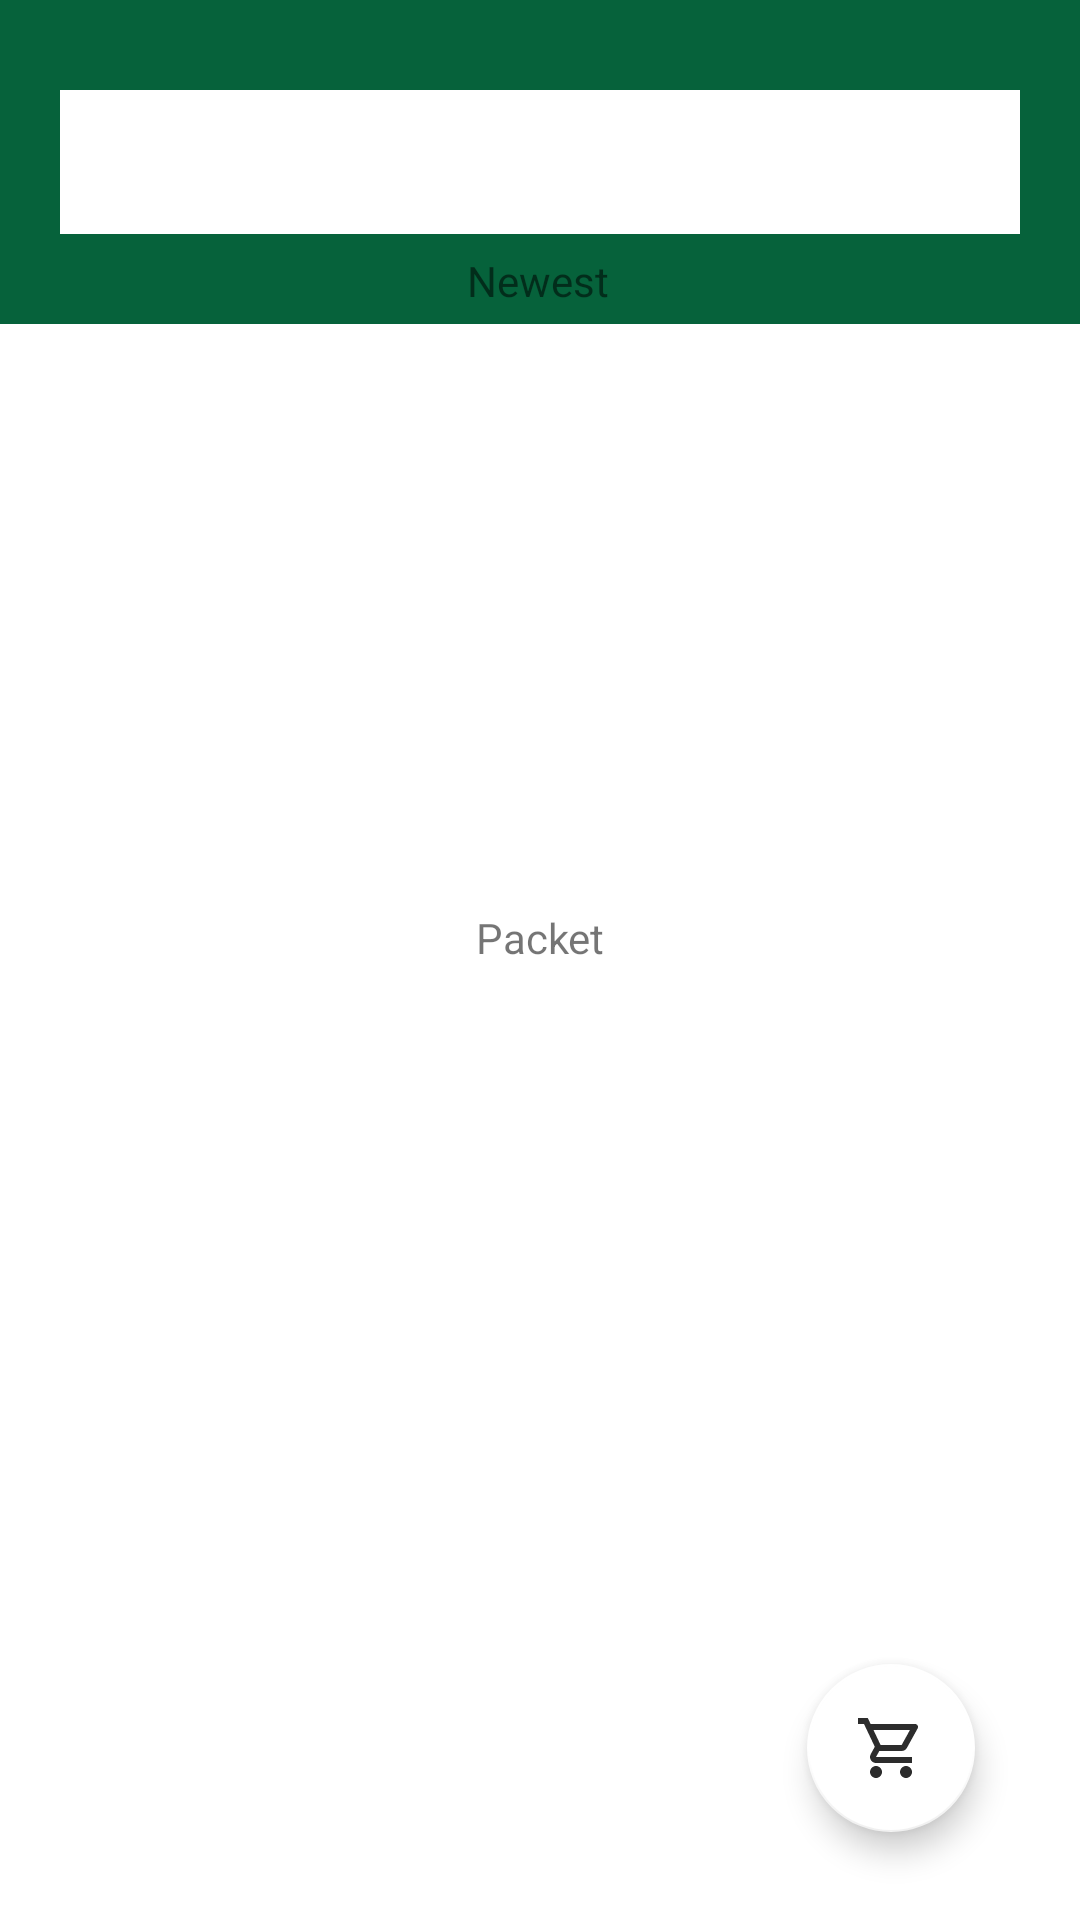

Icons on this 1080w x 1920h Android screen, each with the point to tap as [x,y]:
shopping cart: [893,1775]
